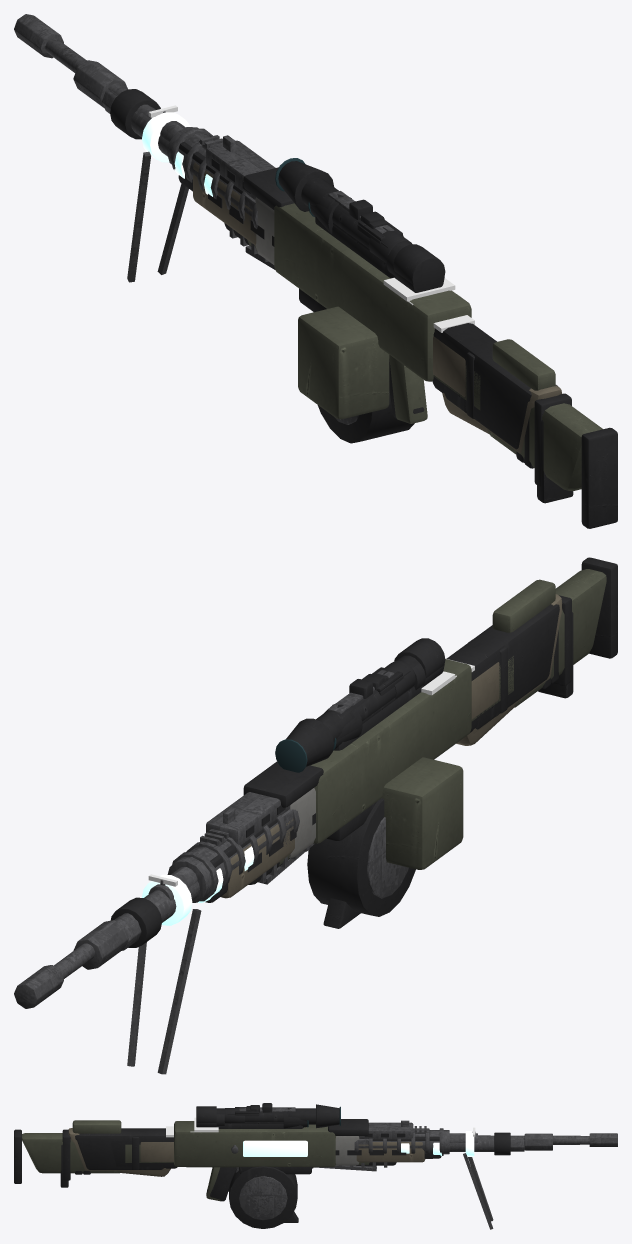
Rendered from weapons.glb.
The picture shows the model from 3 angles, top to bottom: view 1: azimuth 30°, elevation 25°; view 2: azimuth 150°, elevation 25°; view 3: azimuth 270°, elevation 25°; orthographic projection. The views are drawn at different scales.
Parts seen in each view (by area): view 1: grindstone, longwatch, voltlance, scattercan, brigand, tern, rookhammer, ferrous; view 2: grindstone, longwatch, scattercan, voltlance, brigand, tern, rookhammer, ferrous, mako; view 3: grindstone, longwatch, scattercan, voltlance, brigand, tern, rookhammer, ferrous, mako.
Part boxes in pixels (<box>): grindstone: <box>73,60,557,449</box>; longwatch: <box>14,14,617,528</box>; voltlance: <box>110,89,474,332</box>; scattercan: <box>206,140,456,443</box>; brigand: <box>102,86,571,486</box>; tern: <box>315,216,474,418</box>; rookhammer: <box>148,105,573,503</box>; ferrous: <box>110,90,533,468</box>; grindstone: <box>73,604,559,1074</box>; longwatch: <box>14,557,617,1008</box>; scattercan: <box>206,667,477,916</box>; voltlance: <box>110,658,474,947</box>; brigand: <box>114,595,571,950</box>; tern: <box>334,640,507,750</box>; rookhammer: <box>148,594,573,900</box>; ferrous: <box>124,630,558,926</box>; mako: <box>223,678,551,928</box>; grindstone: <box>75,1107,552,1229</box>; longwatch: <box>14,1103,617,1200</box>; scattercan: <box>110,1107,413,1228</box>; voltlance: <box>166,1103,510,1200</box>; brigand: <box>62,1105,524,1180</box>; tern: <box>132,1123,313,1201</box>; rookhammer: <box>60,1127,477,1201</box>; ferrous: <box>75,1106,522,1174</box>; mako: <box>83,1120,409,1222</box>.
Bounding box in the file's own units: 0.156 × 0.3279 × 1.49.
Materials: 9 (6 with a texture image).
